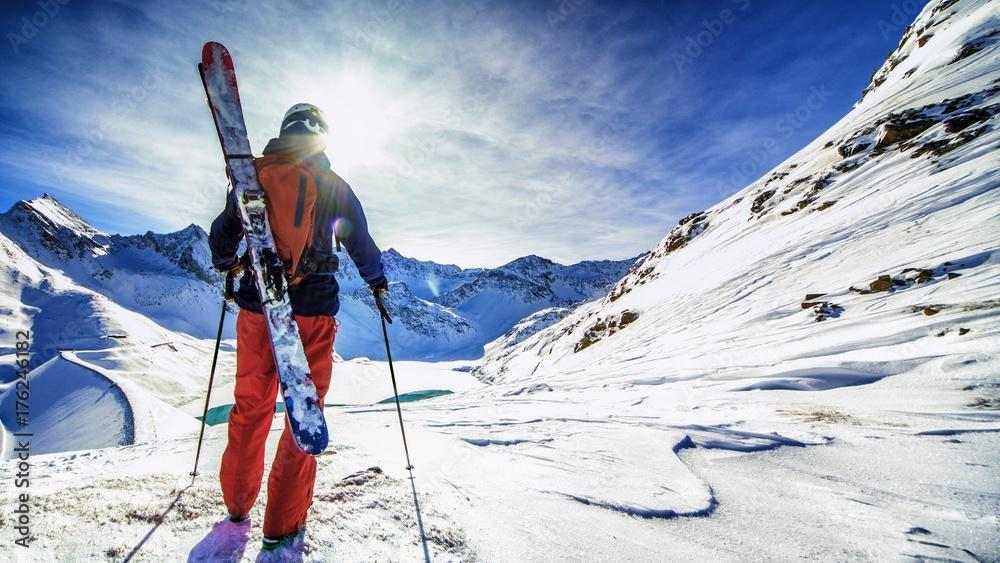Skis: (182, 27, 338, 454)
